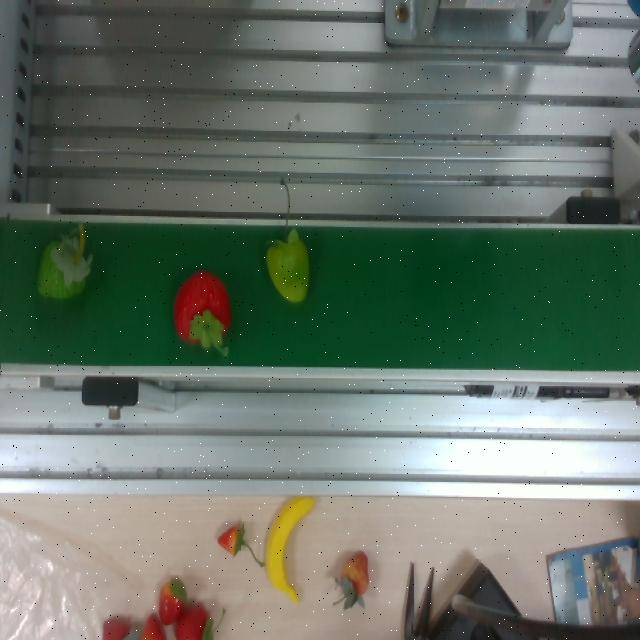Large Ripe Strawberry: (171, 266, 233, 356)
Small Unripe Strawberry: (26, 220, 111, 308), (260, 226, 314, 308)
conveyor: (0, 208, 639, 385)
